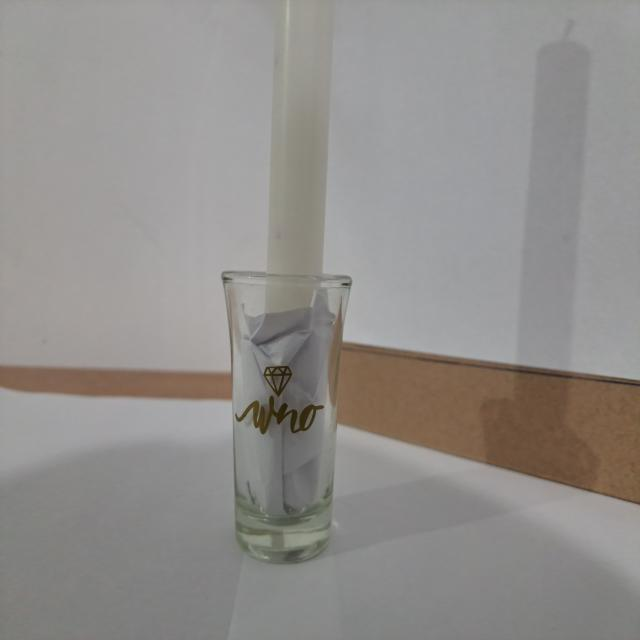candle: (218, 0, 358, 575)
